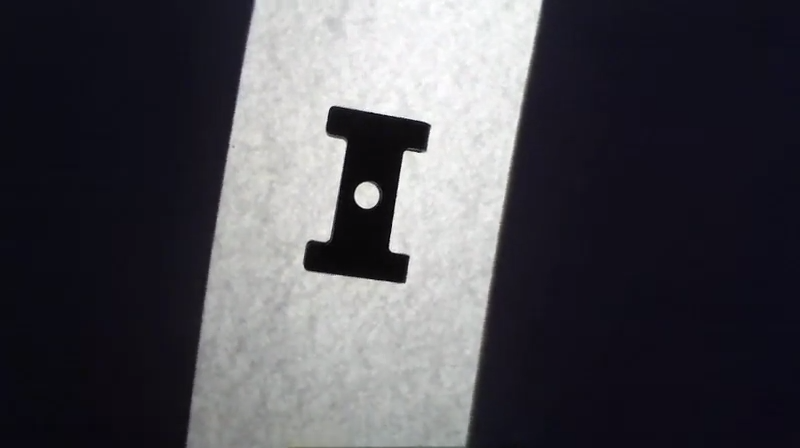O002: (301, 103, 433, 292)
